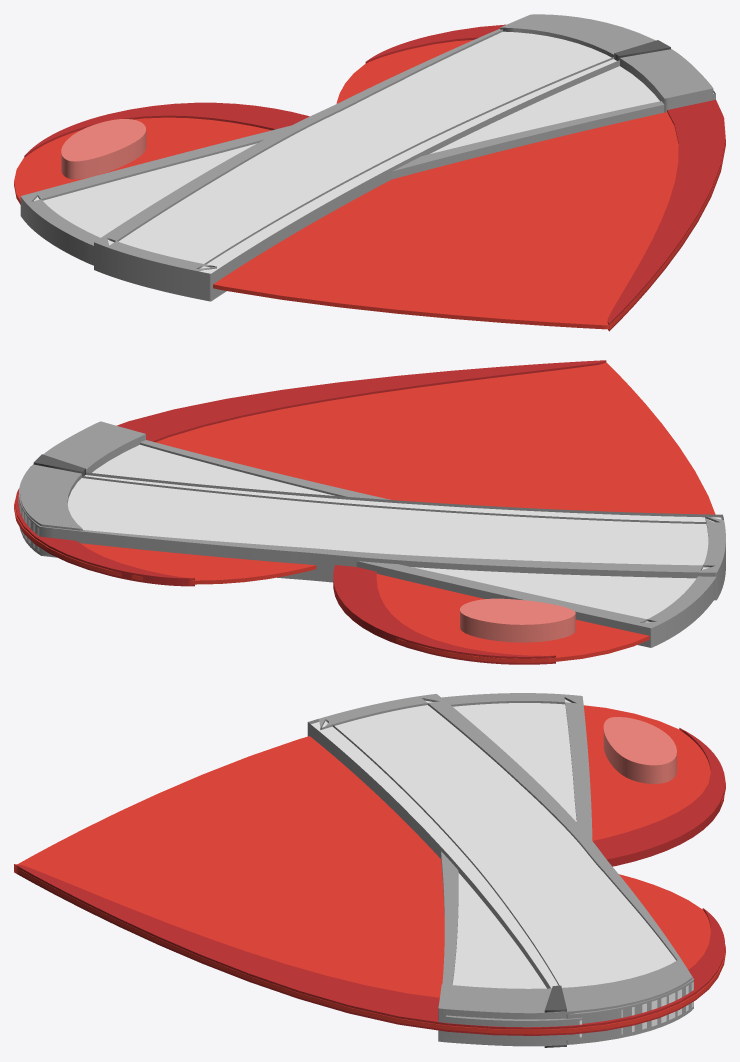
File: emoji_u2764_200d_1fa79.glb
3 renders of one model, top to bottom at view 1: azimuth 30°, elevation 25°; view 2: azimuth 150°, elevation 25°; view 3: azimuth 270°, elevation 25°, orthographic. The views are drawn at different scales.
Visible parts, largest first — view 1: emoji_u2764_200d_1fa79; view 2: emoji_u2764_200d_1fa79; view 3: emoji_u2764_200d_1fa79.
Boxes of the visible parts, x1,y1,x2,y2 form: emoji_u2764_200d_1fa79: (14, 14, 725, 331); emoji_u2764_200d_1fa79: (14, 360, 725, 664); emoji_u2764_200d_1fa79: (14, 693, 725, 1047).
Size of the model in its own units: 0.0339 by 0.002 by 0.0311.
